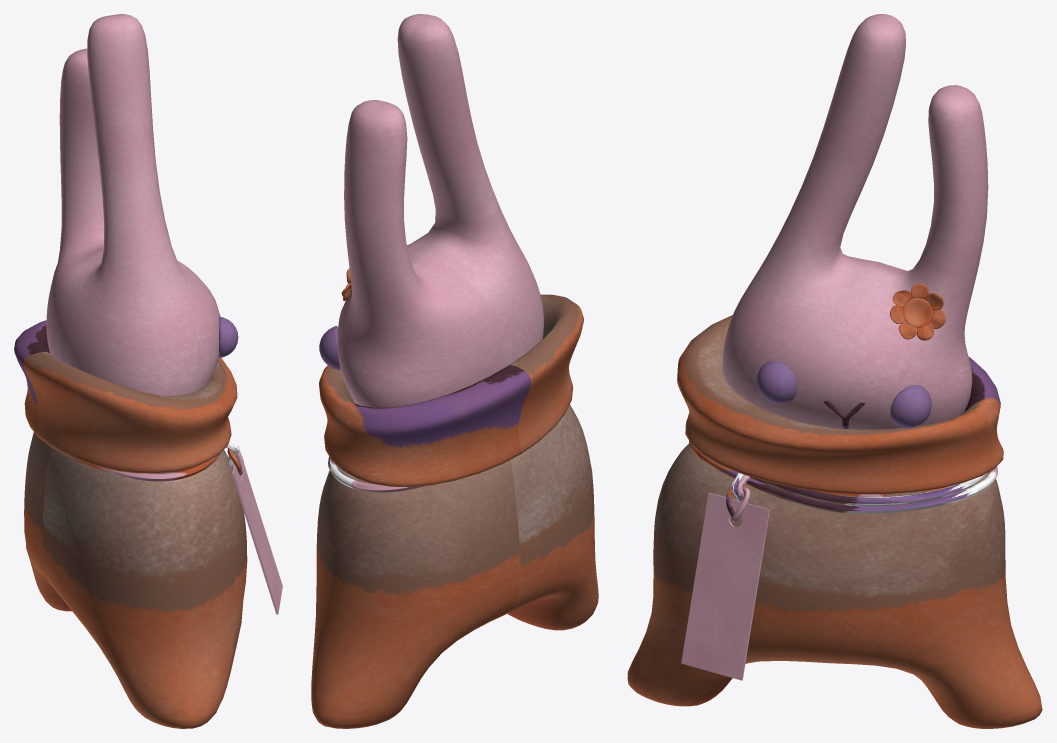
File: peluche_t.fbx
3 renders of one model, left to right at view 1: azimuth 30°, elevation 25°; view 2: azimuth 150°, elevation 25°; view 3: azimuth 270°, elevation 25°, orthographic. The views are drawn at different scales.
Visible parts, largest first — view 1: head_1; view 2: head_1; view 3: head_1.
Part boxes in pixels (bbox=[...]): head_1: bbox=[14, 14, 282, 728]; head_1: bbox=[311, 14, 598, 728]; head_1: bbox=[627, 14, 1042, 728].
Bounding box in the file's own units: 16.33 × 47.74 × 26.06.
